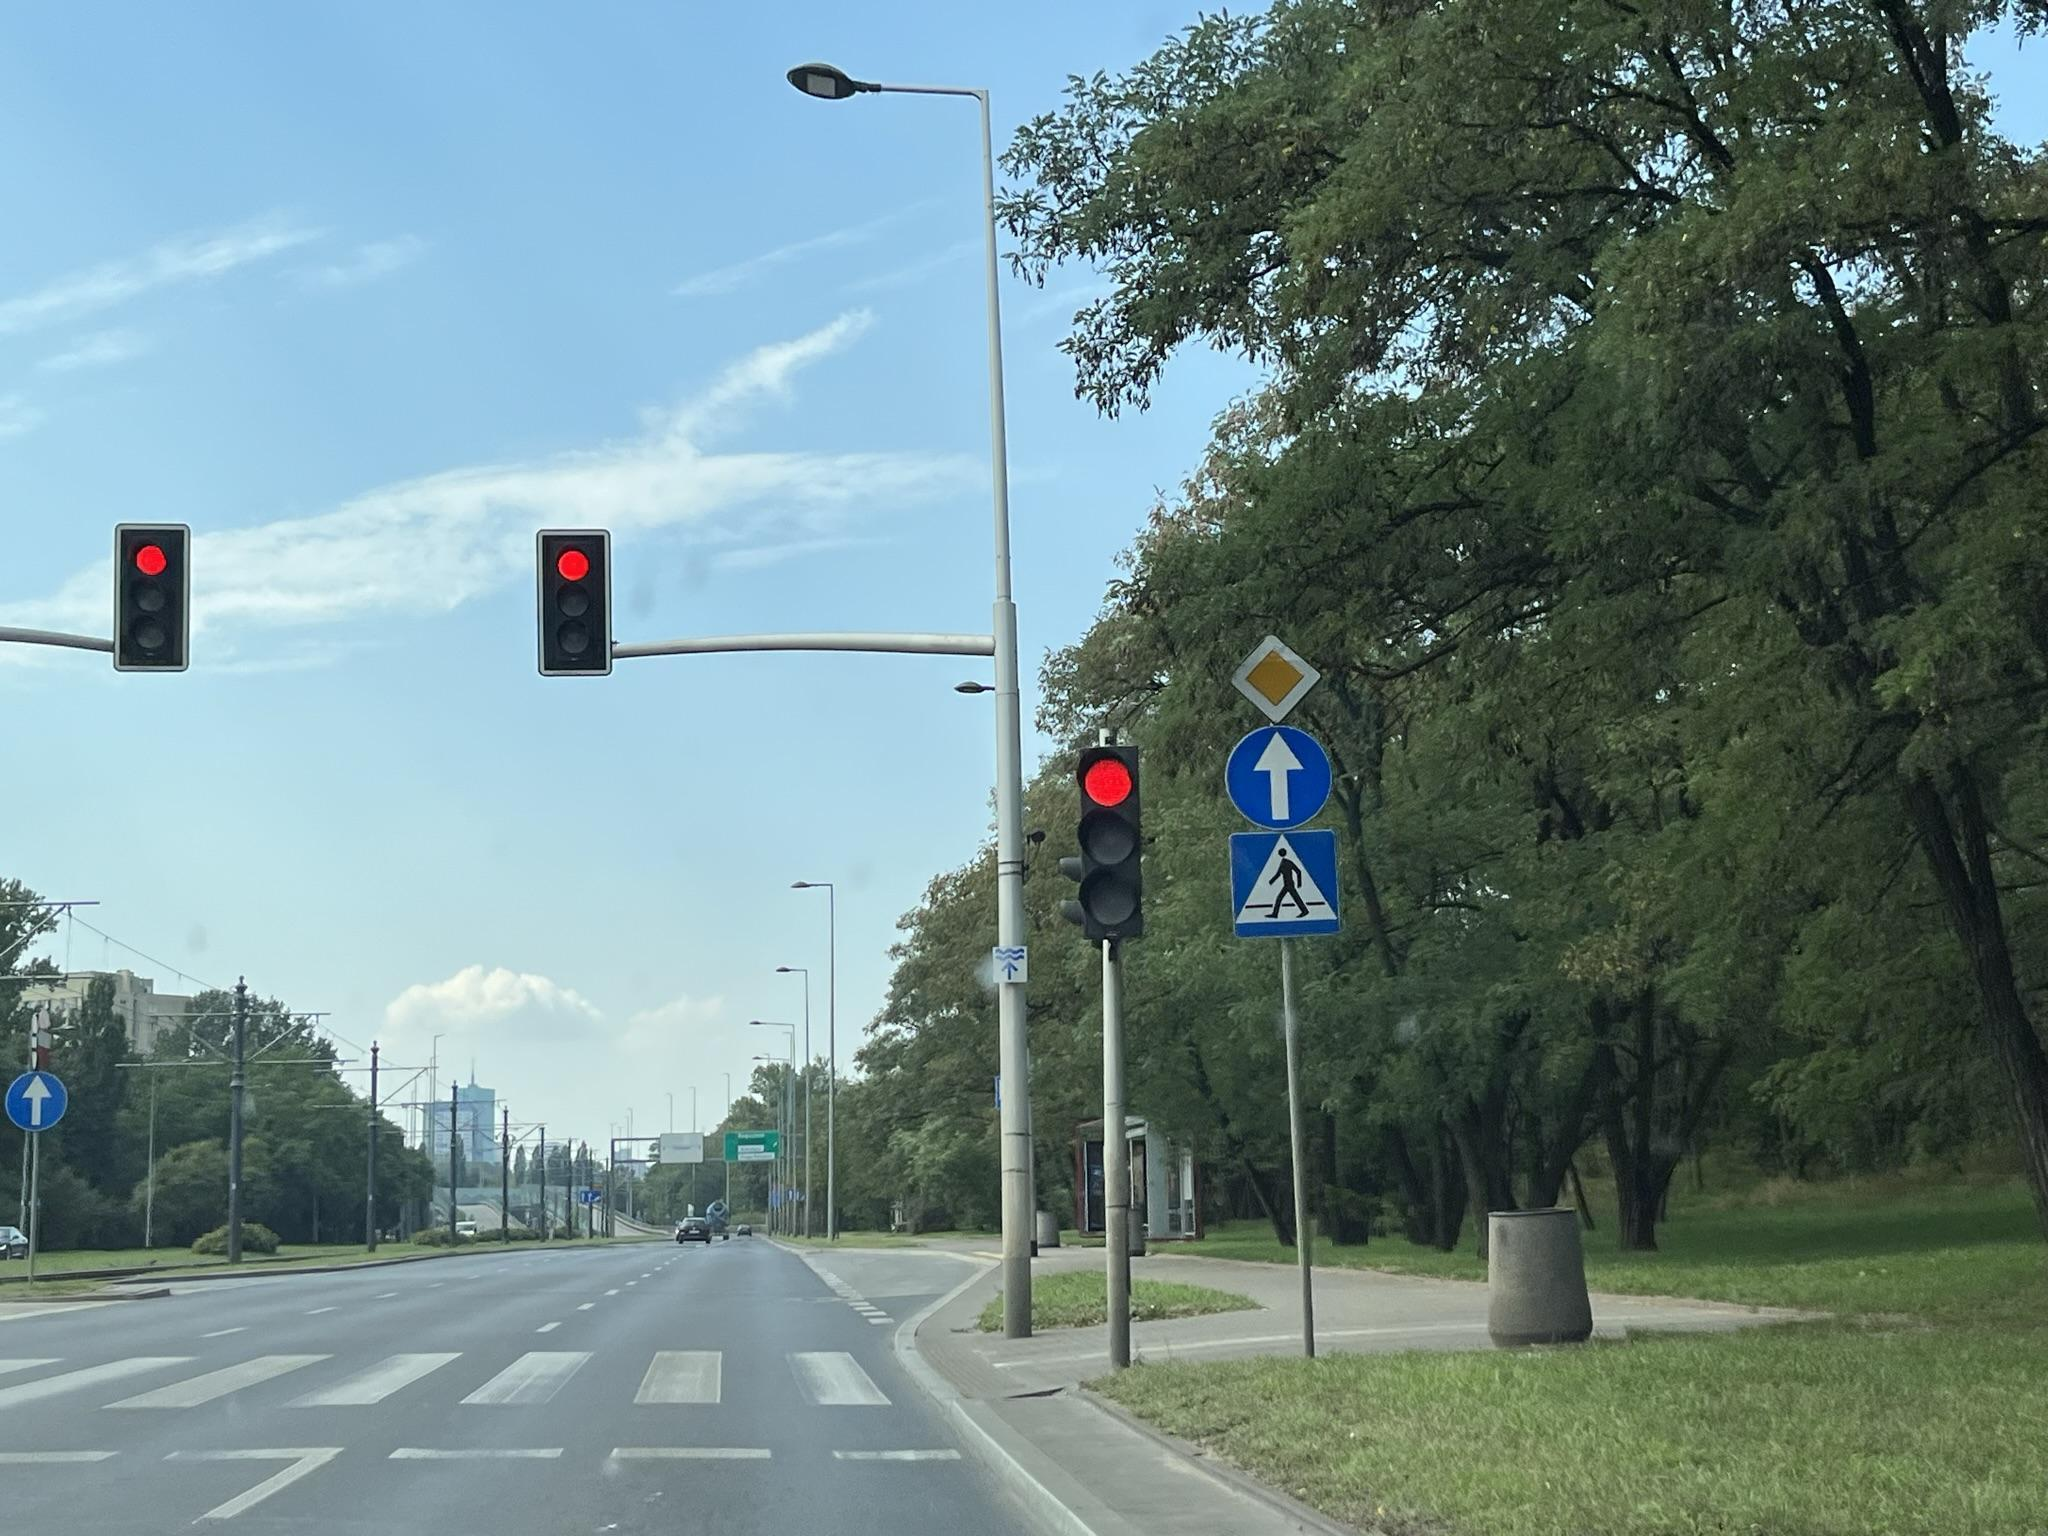direction-city: (724, 1131, 779, 1162), (661, 1134, 703, 1163)
information: (1232, 831, 1337, 936), (1227, 629, 1321, 724)
mandatory: (1226, 724, 1332, 829), (5, 1070, 69, 1131)
